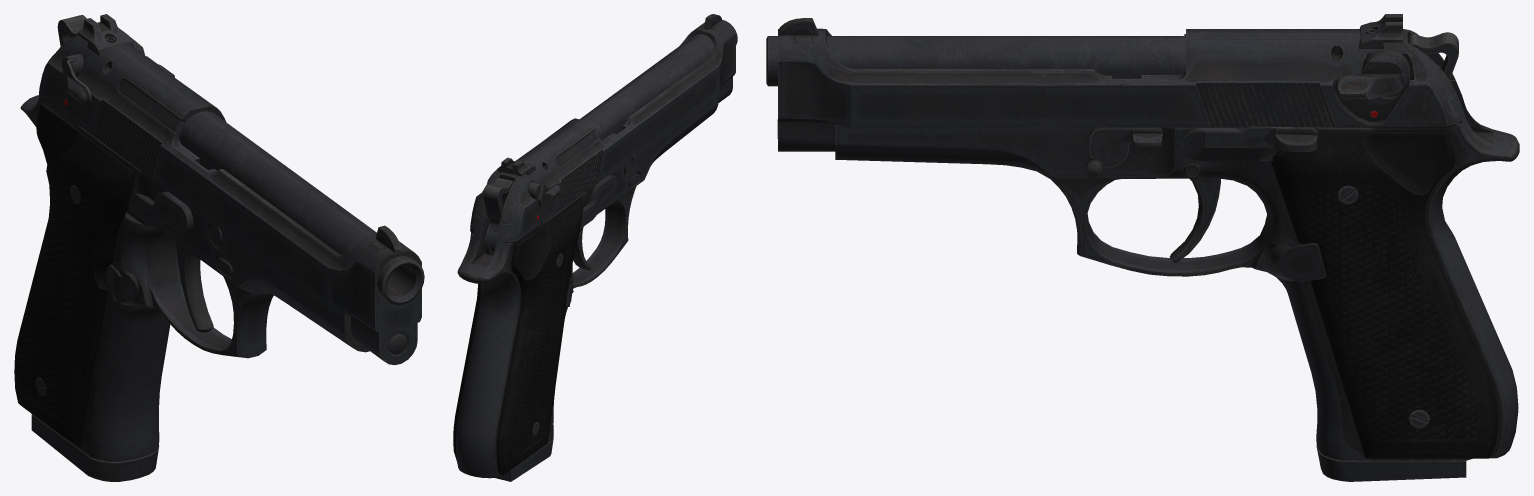
The model's file is pistol.glb.
The picture shows the model from 3 angles, left to right: view 1: azimuth 30°, elevation 25°; view 2: azimuth 150°, elevation 25°; view 3: azimuth 270°, elevation 25°; orthographic projection. The views are drawn at different scales.
Visible parts, largest first — view 1: base, slide, mag, trigger, hammer; view 2: base, slide, hammer, mag, trigger; view 3: base, slide, mag, trigger, hammer.
Boxes of the visible parts, x1=… form: base: x1=14, y1=95, x2=424, y2=461; slide: x1=39, y1=14, x2=421, y2=364; mag: x1=31, y1=414, x2=159, y2=481; trigger: x1=176, y1=242, x2=213, y2=332; hammer: x1=57, y1=15, x2=86, y2=45; base: x1=453, y1=19, x2=737, y2=478; slide: x1=470, y1=14, x2=735, y2=242; hammer: x1=483, y1=178, x2=513, y2=255; mag: x1=494, y1=437, x2=553, y2=481; trigger: x1=573, y1=227, x2=591, y2=270; base: x1=766, y1=36, x2=1519, y2=460; slide: x1=778, y1=14, x2=1460, y2=151; mag: x1=1316, y1=444, x2=1466, y2=481; trigger: x1=1169, y1=178, x2=1220, y2=262; hammer: x1=1408, y1=32, x2=1458, y2=80.
Bounding box in the file's own units: 2.56 × 10.82 × 16.55.
Materials: 1 (1 with a texture image).
